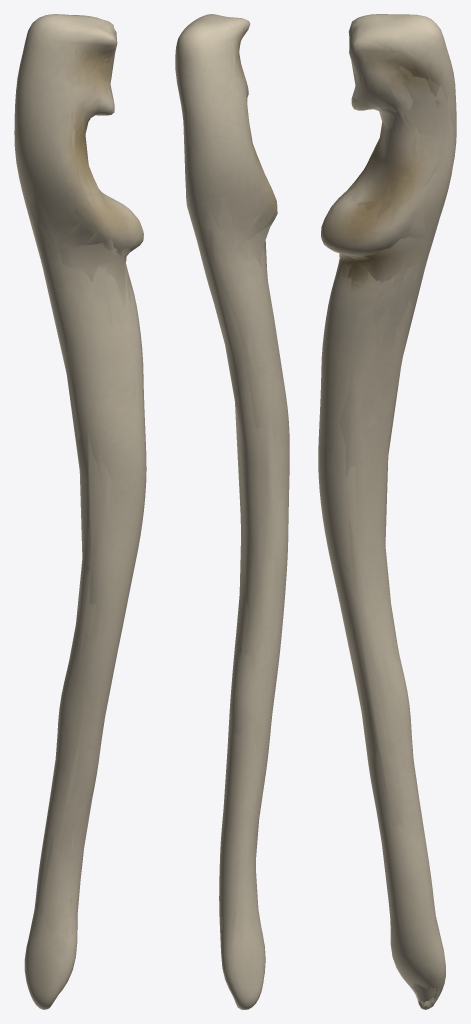
The model's file is R Ulna.fbx.
3 views of the same model, side by side, from view 1: azimuth 90°, elevation 25°; view 2: azimuth 150°, elevation 25°; view 3: azimuth 270°, elevation 25° (orthographic). The views are drawn at different scales.
Visible parts, largest first — view 1: R Ulna high, R Ulna, R Ulna low; view 2: R Ulna high, R Ulna, R Ulna low; view 3: R Ulna high, R Ulna, R Ulna low.
Part boxes in pixels (x1,y1,x2,y2): R Ulna high: (14,14,146,1009); R Ulna: (15,14,144,1009); R Ulna low: (27,26,131,933); R Ulna high: (175,14,289,1009); R Ulna: (175,14,289,1009); R Ulna low: (181,16,284,931); R Ulna high: (318,14,456,1009); R Ulna: (318,14,455,1009); R Ulna low: (339,25,449,1002).
Size of the model in its own units: 4.44 by 48.31 by 5.97.
1 material, 1 textured.
